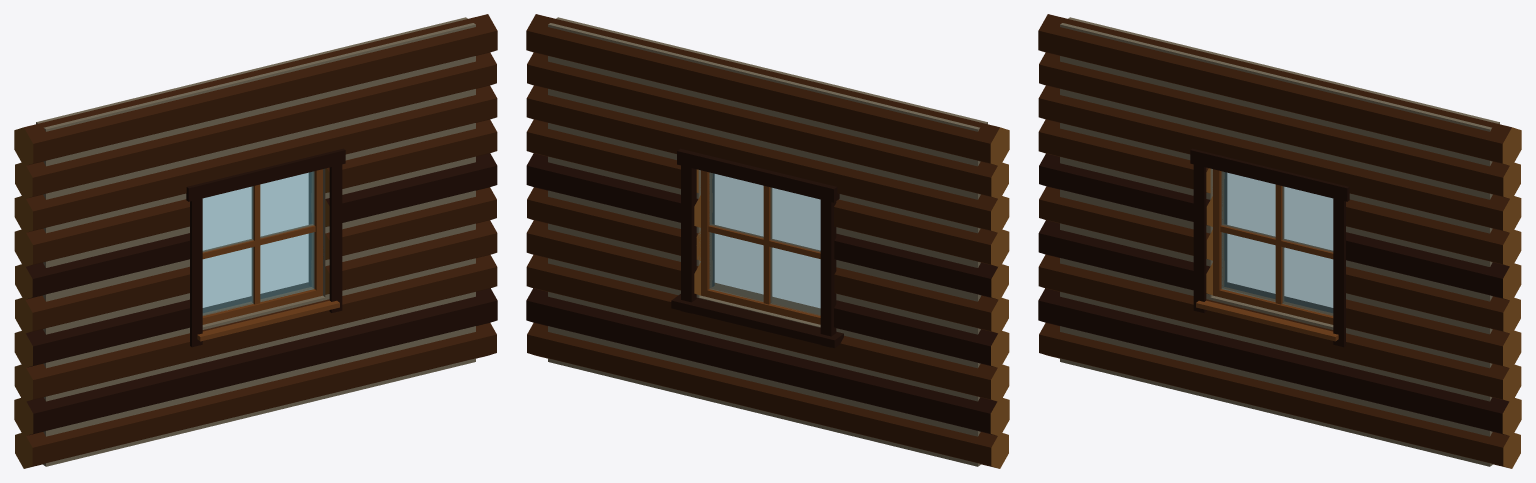
The model's file is SM_Bld_Wall_Log_Window.glb.
3 renders of one model, left to right at view 1: azimuth 30°, elevation 25°; view 2: azimuth 150°, elevation 25°; view 3: azimuth 330°, elevation 25°, orthographic.
Visible parts, largest first — view 1: SM_Bld_Wall_Log_Window; view 2: SM_Bld_Wall_Log_Window; view 3: SM_Bld_Wall_Log_Window.
Boxes of the visible parts, bbox=[...] form: SM_Bld_Wall_Log_Window: bbox=[14, 14, 497, 468]; SM_Bld_Wall_Log_Window: bbox=[526, 14, 1009, 468]; SM_Bld_Wall_Log_Window: bbox=[1038, 14, 1521, 468].
Size of the model in its own units: 4.32 by 3.04 by 0.47.
Materials: 2 (2 with a texture image).
